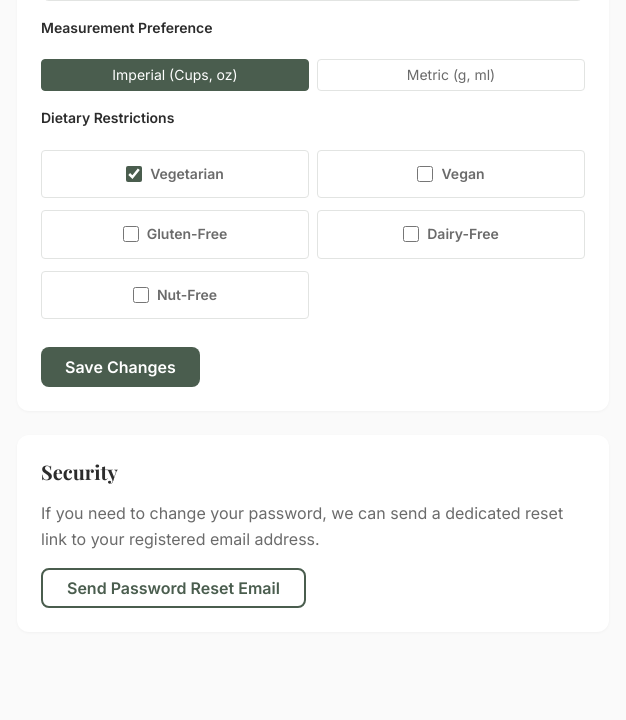
it: Settings Page › successfully sends password reset email
The width and height of the screenshot is (626, 720).
(page scrolled)
Click the button "Send Password Reset Email".
click(173, 588)  # box [41,568,306,608]
(page scrolled)
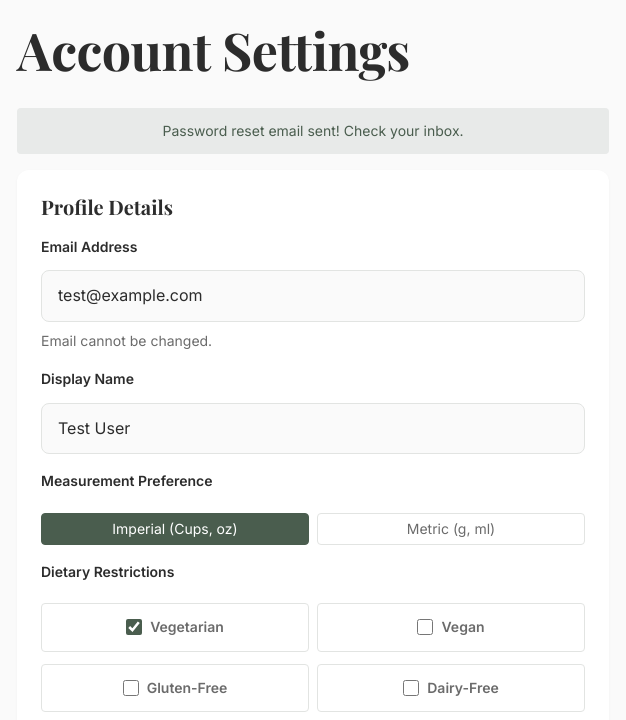
Now the text "Password reset email sent! Check your inbox." is shown, box [17,108,609,154]
